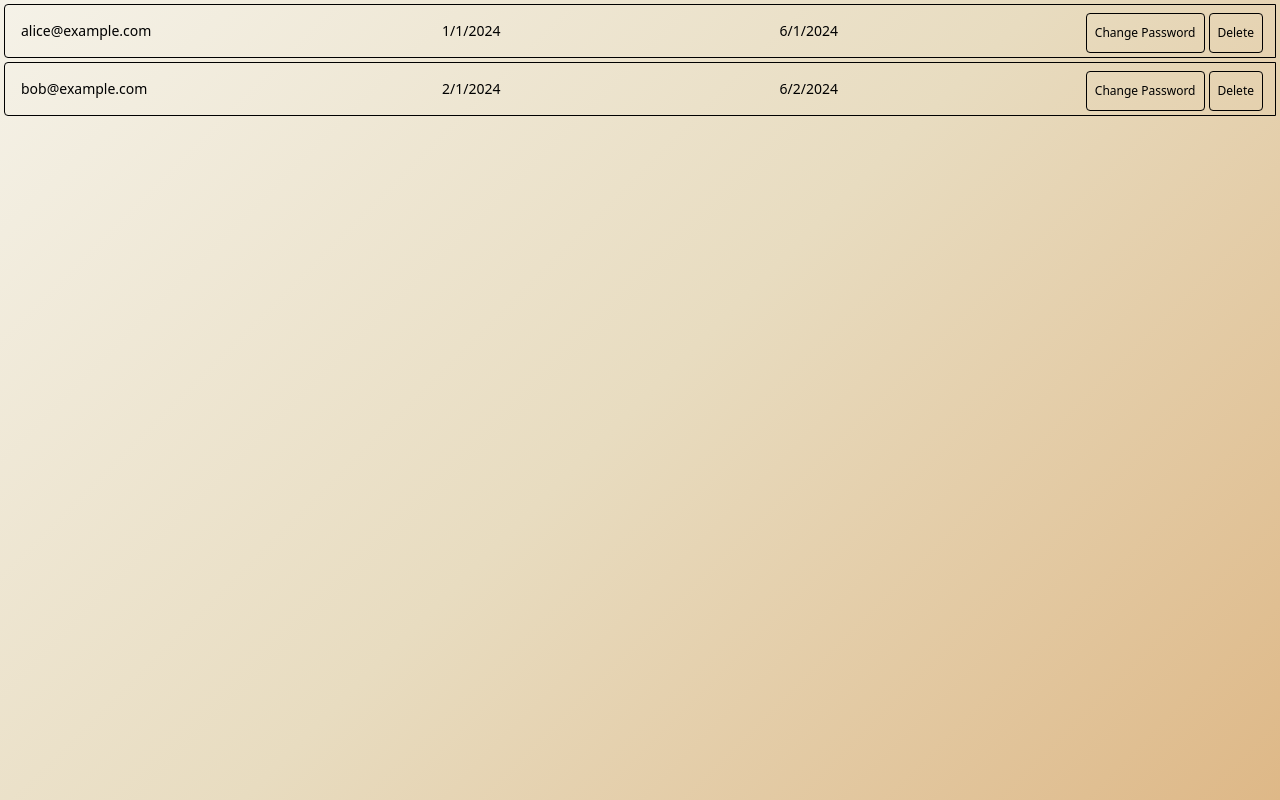
Test: Change password — ListAccountInfo › expands the change-password form when Change Password is clicked
The width and height of the screenshot is (1280, 800).
Click the button "Change Password" in the row of "6/1/2024".
click(1145, 33)  # box [1086,13,1204,53]
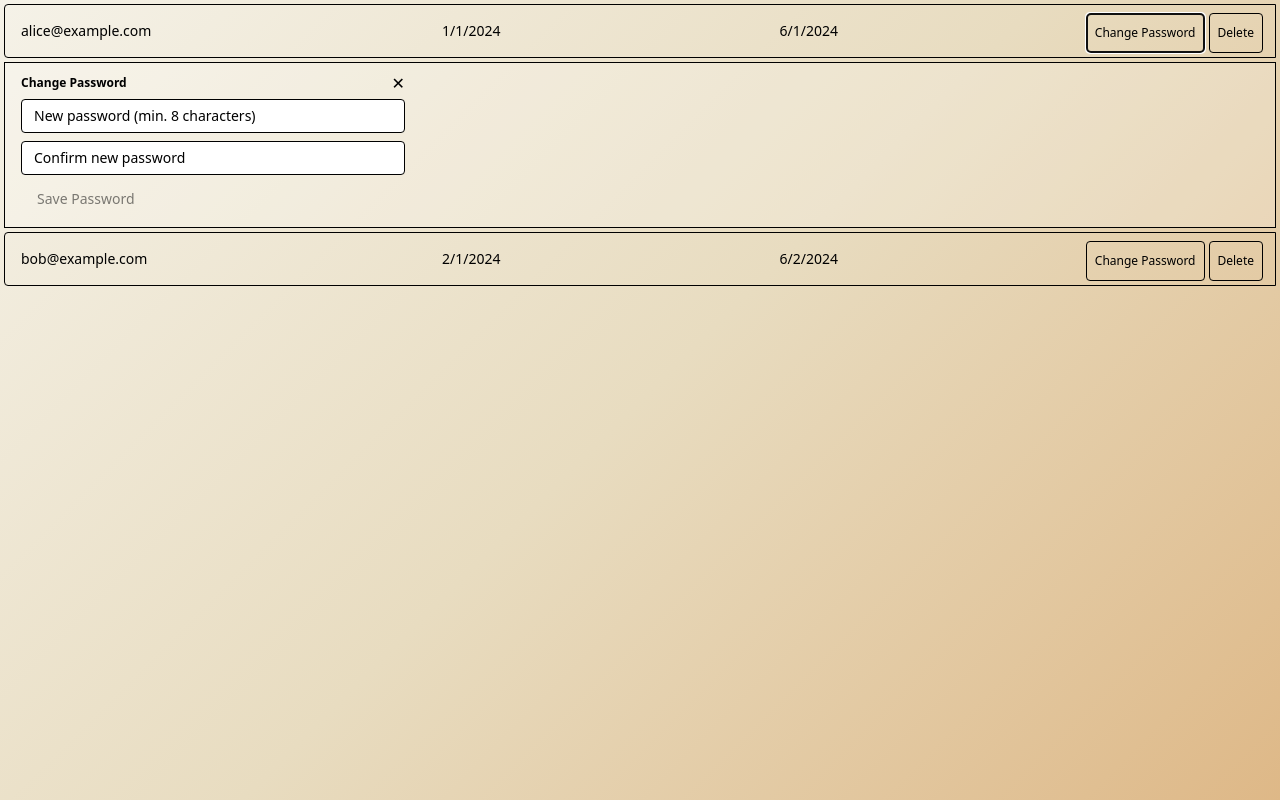
Now the password field with placeholder "New password (min. 8 characters)" is shown, box [21,99,405,133]
